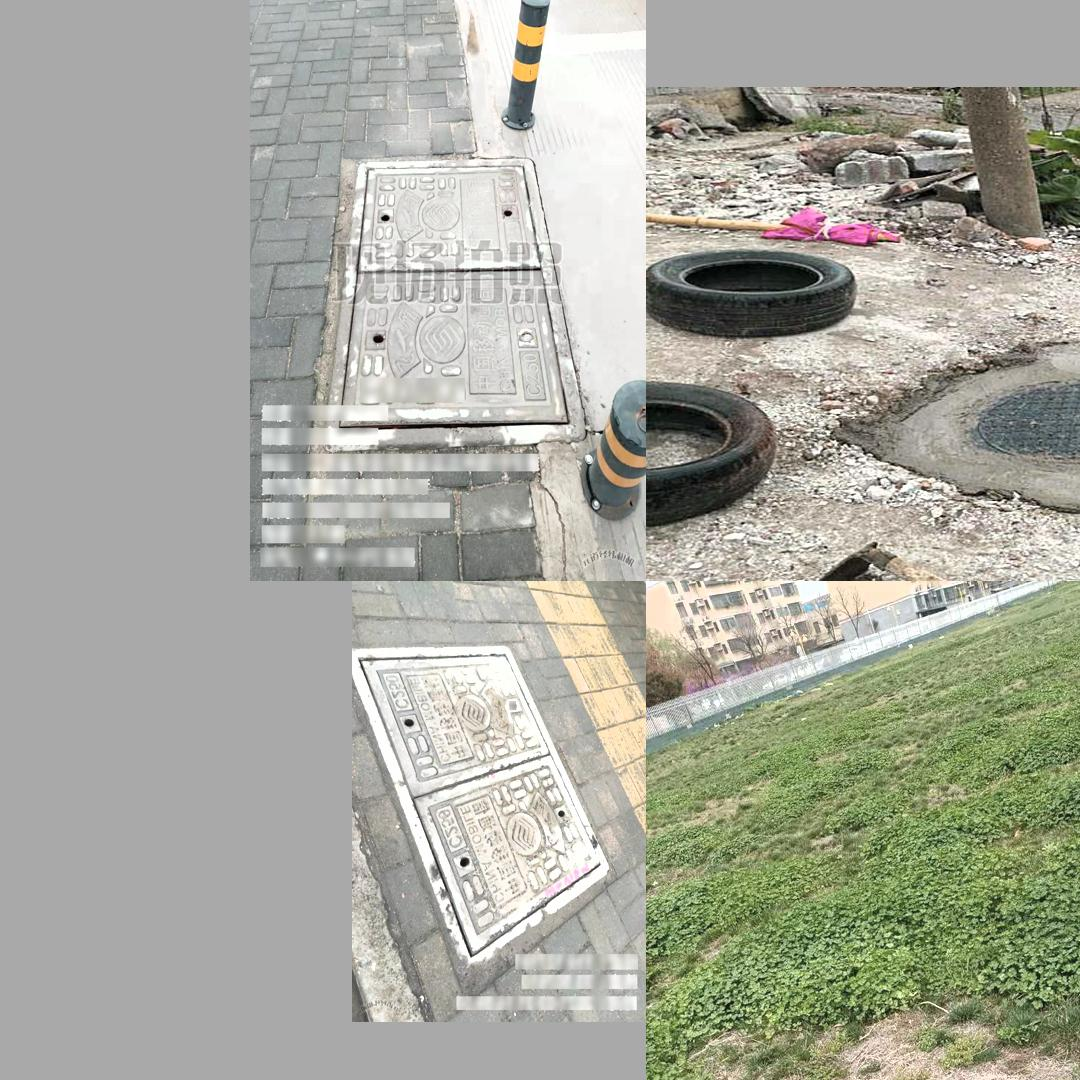good: (352, 645, 608, 965), (341, 155, 569, 434), (835, 337, 1080, 538), (857, 1077, 1080, 1080)
